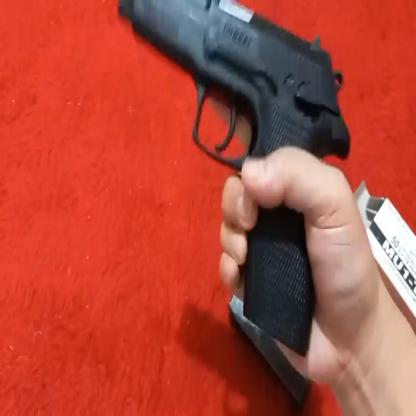handgun: (120, 0, 344, 360)
